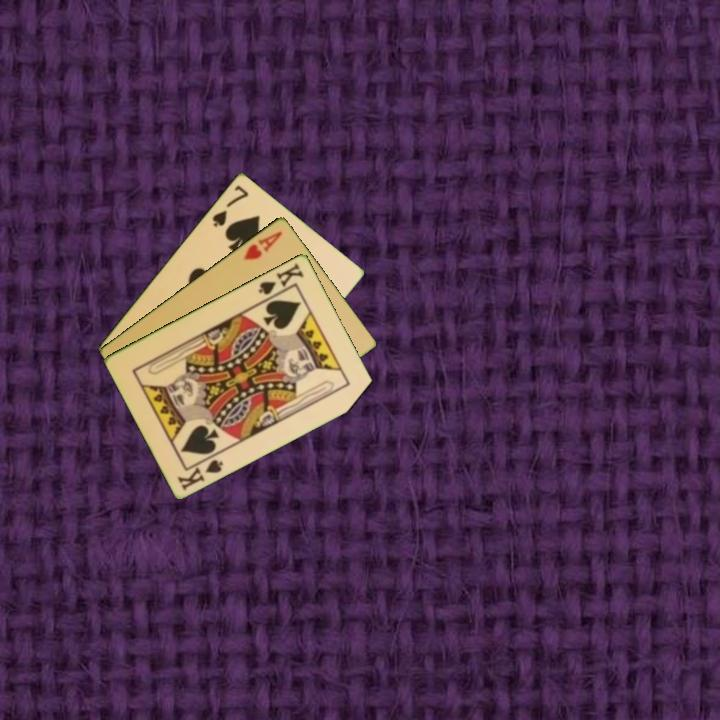7s: (209, 181, 251, 229)
Ah: (240, 227, 285, 263)
Ks: (255, 258, 307, 303), (174, 450, 227, 493)
